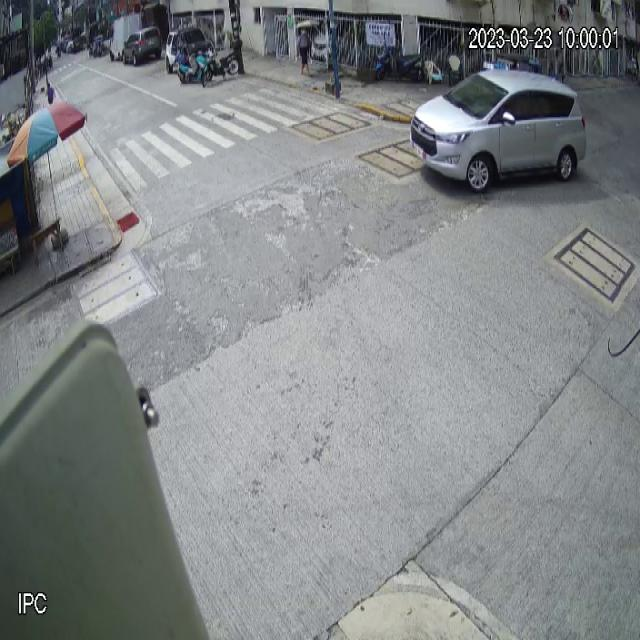Car: (410, 68, 588, 194)
